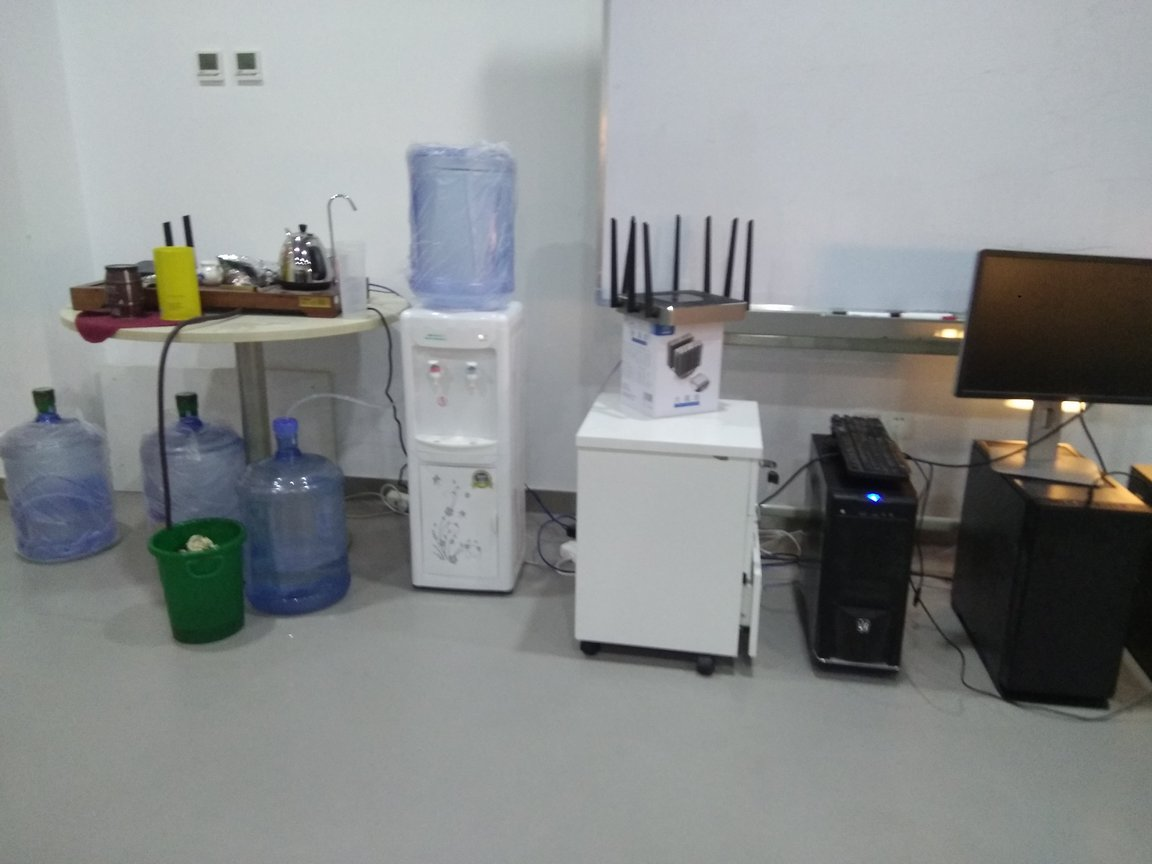computer: (967, 435, 1138, 720), (804, 428, 913, 687)
drawer chest: (574, 393, 780, 684)
monitor: (955, 245, 1152, 479)
scuttlebutt: (239, 417, 348, 620), (1, 381, 117, 568), (135, 394, 242, 596), (400, 140, 514, 317)
water dispenser: (402, 301, 527, 594)
